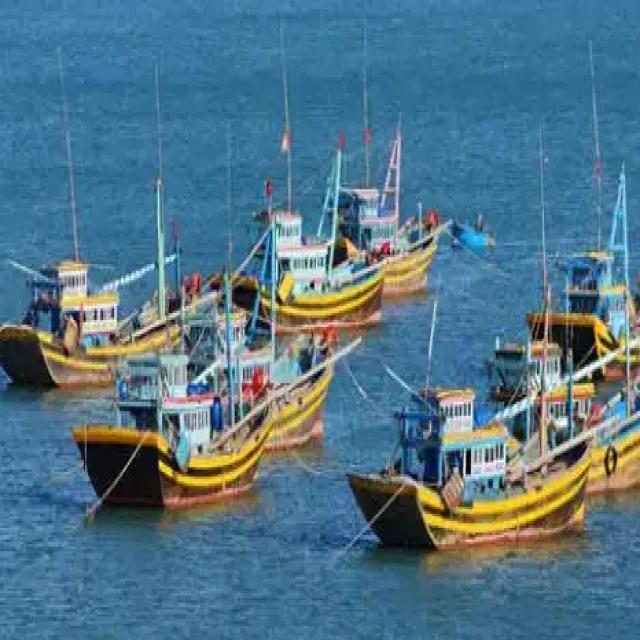fishing boat: (332, 365, 588, 553), (0, 203, 257, 390), (72, 299, 276, 520), (170, 298, 362, 448), (320, 96, 440, 290), (237, 187, 388, 325), (525, 198, 640, 376), (525, 348, 640, 504), (490, 318, 598, 428)
